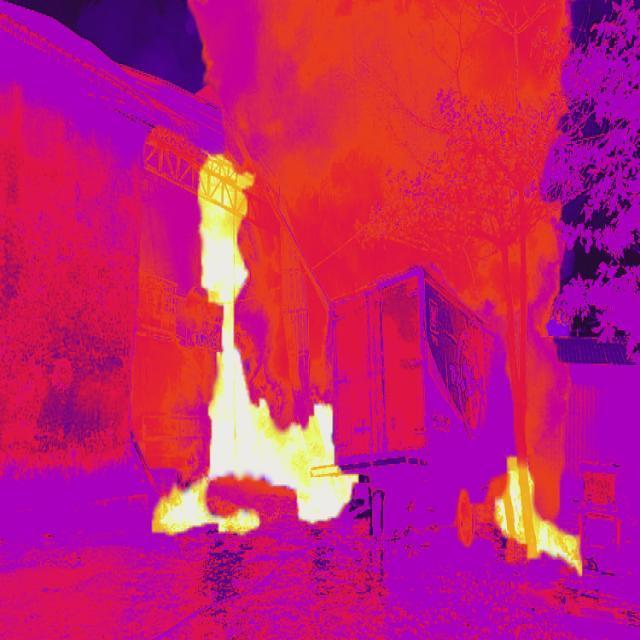fire: (150, 157, 365, 539), (489, 457, 583, 572)
